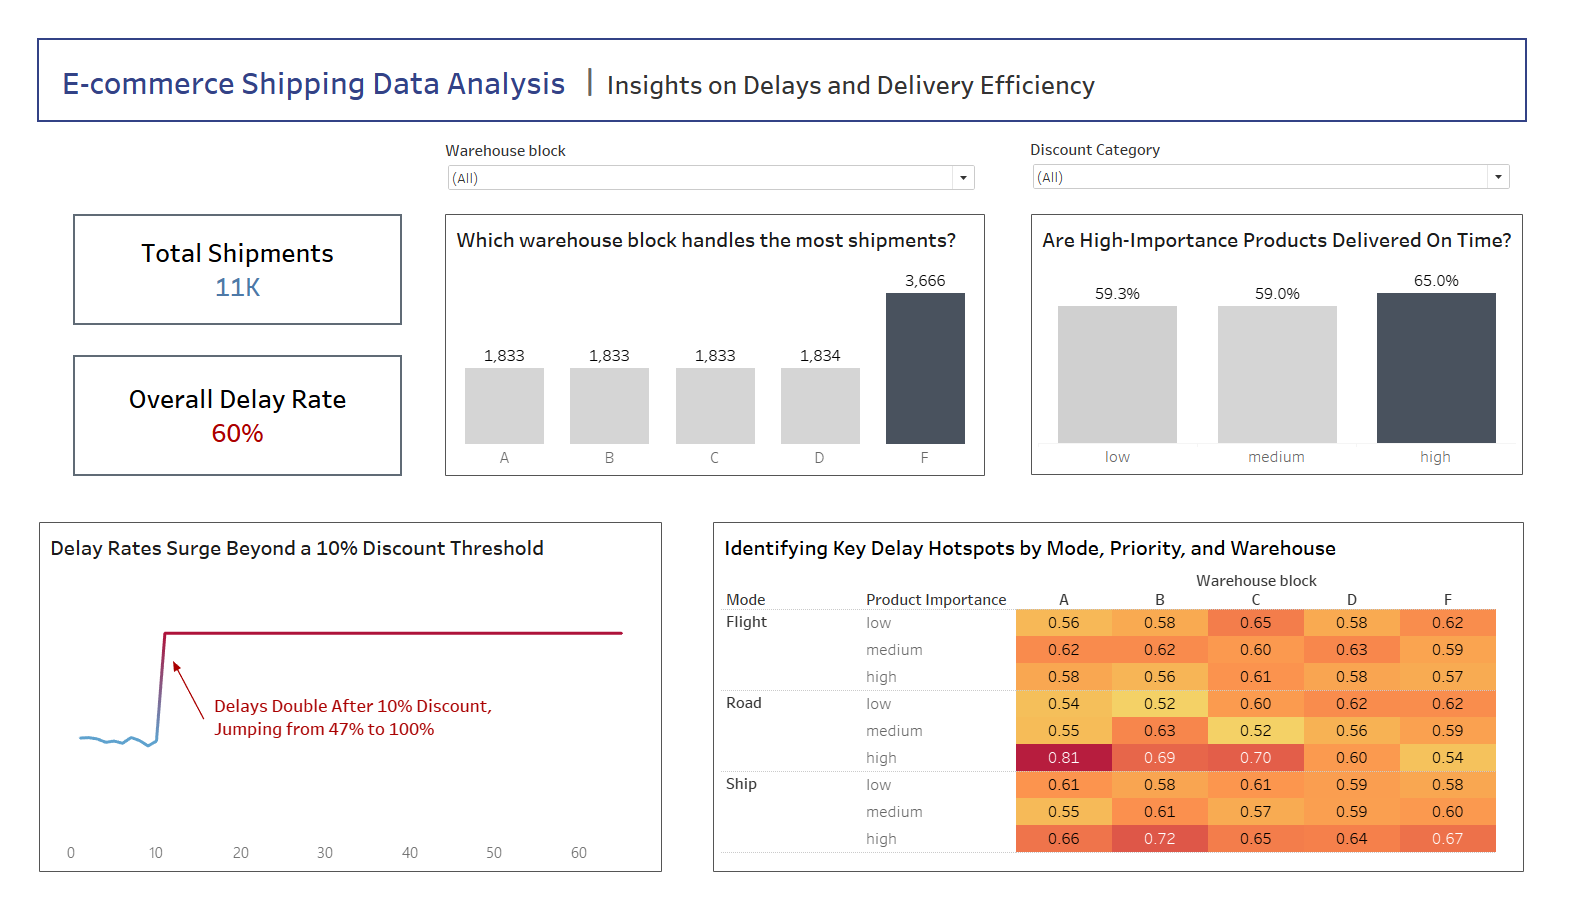

Layout of this report page (visuals, bound fields, positions):
{"tool":"tableau","page":{"name":"Dashboard (3)","canvas":[1400,1000],"ordinal":1},"visuals":[{"type":"text","box":[37.6,33.3,1303.8,93.3]},{"type":"filter","title":"Sheet 3","param":"[federated.0qthjse0urmlx918wd2vy1bi9tw7].[none:Calculation_2379870960280596484:n","box":[906.5,145.6,422.6,67.8]},{"type":"filter","title":"Sheet 15","param":"[federated.0qthjse0urmlx918wd2vy1bi9tw7].[none:Warehouse_block:nk]","box":[394.6,146.7,466.4,67.8]},{"type":"text","box":[69.1,228.9,287.9,123.3]},{"type":"worksheet","title":"Sheet 3","mark":"Automatic","rows":["ID"],"cols":["Warehouse_block"],"box":[395,229,463,291]},{"type":"worksheet","title":"Sheet 15","mark":"Automatic","rows":["Calculation_2277414069118246913"],"cols":["Product_importance"],"box":[886,229,452,290]},{"type":"text","box":[69.1,385.6,287.9,134.4]},{"type":"worksheet","title":"Sheet 16","mark":"Line","rows":["Calculation_2379870960276946944"],"cols":["Discount_offered"],"box":[39,571,538,389]},{"type":"worksheet","title":"Sheet 5 (3)","mark":"Square","rows":["Mode_of_Shipment","Product_importance"],"cols":["Warehouse_block"],"box":[611,571,728,389]}]}

Visuals, with their boxes on the page's 1400x1000 design canvas (x1, y1, x2, y2). These are canvas units, not pixel positions in the 1583x911 screenshot, which may show the page scaled, cropped or inside an application window:
text: crop(38, 33, 1341, 127)
"Sheet 3" filter: crop(906, 146, 1329, 213)
"Sheet 15" filter: crop(395, 147, 861, 214)
text: crop(69, 229, 357, 352)
"Sheet 3" worksheet: crop(395, 229, 858, 520)
"Sheet 15" worksheet: crop(886, 229, 1338, 519)
text: crop(69, 386, 357, 520)
"Sheet 16" worksheet (Line marks): crop(39, 571, 577, 960)
"Sheet 5 (3)" worksheet (Square marks): crop(611, 571, 1339, 960)
